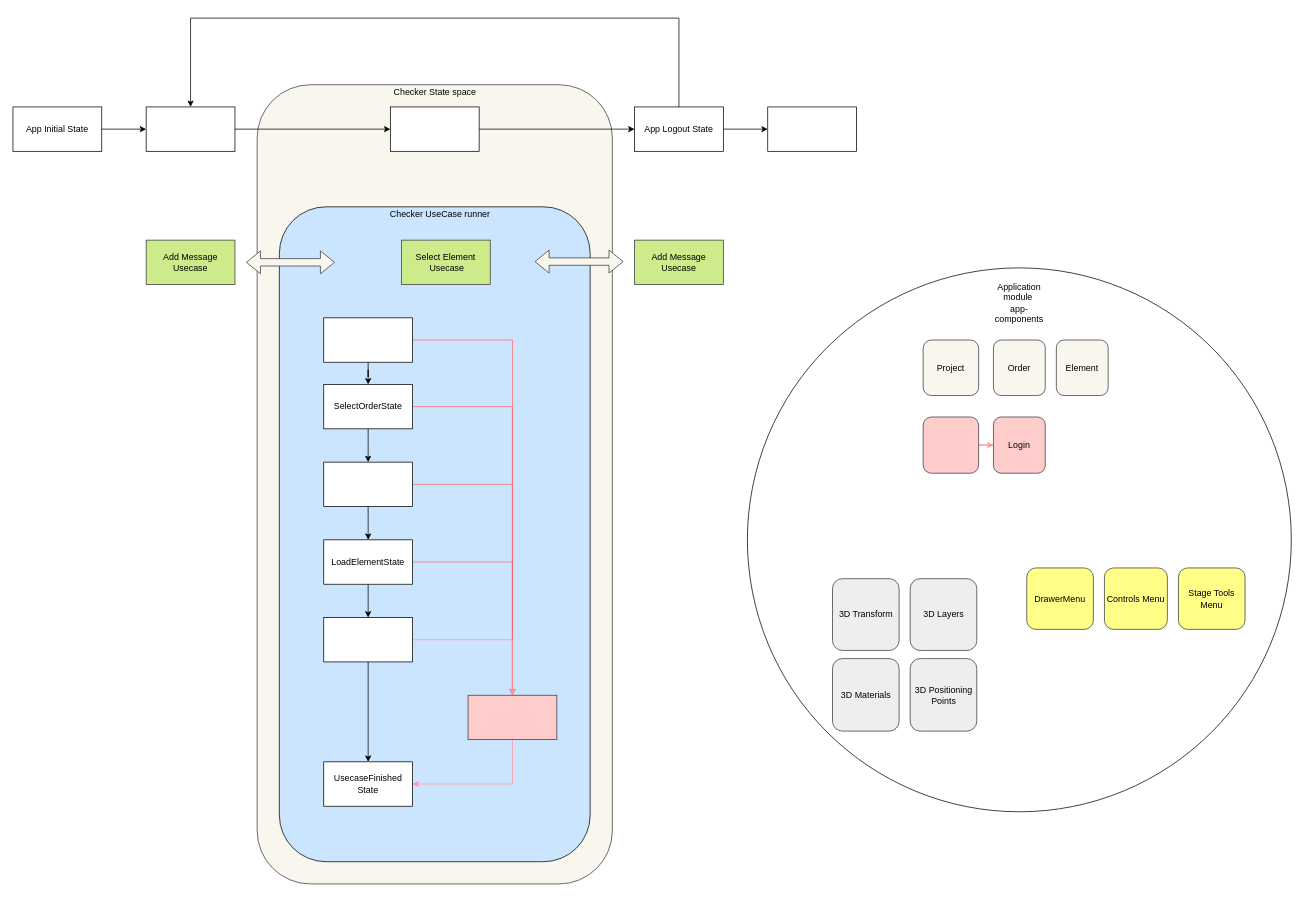
Some shapes in this 1305 by 897 pixel diagram are drawn without their labels. The shapes that lost their labels are listed below. From the top down, each one's box as (x1, y1, x2, y2) in pixels, then its label:
(145, 106, 235, 151): App Login State
(390, 106, 479, 151): App Checker State
(767, 106, 857, 151): App Exit State
(323, 317, 413, 362): InitSelectElement UsecaseState
(922, 416, 979, 473): User
(323, 461, 413, 507): SelectElementState
(323, 617, 413, 662): PlaceElementState
(467, 694, 557, 740): CancelSelectionState
